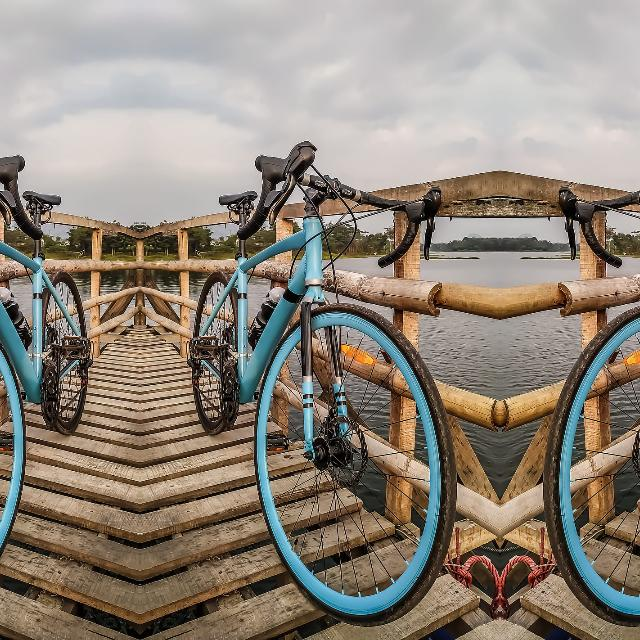obstacle: (172, 111, 483, 640), (514, 111, 640, 640), (0, 111, 105, 640)
